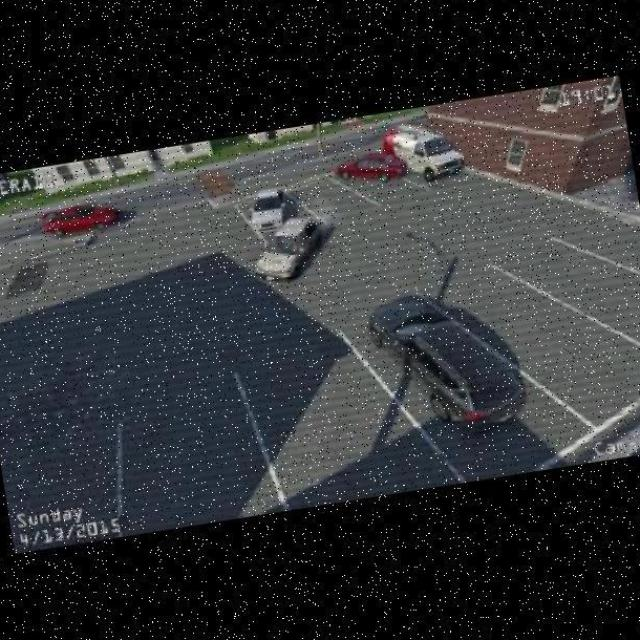accident: (350, 130, 428, 182)
